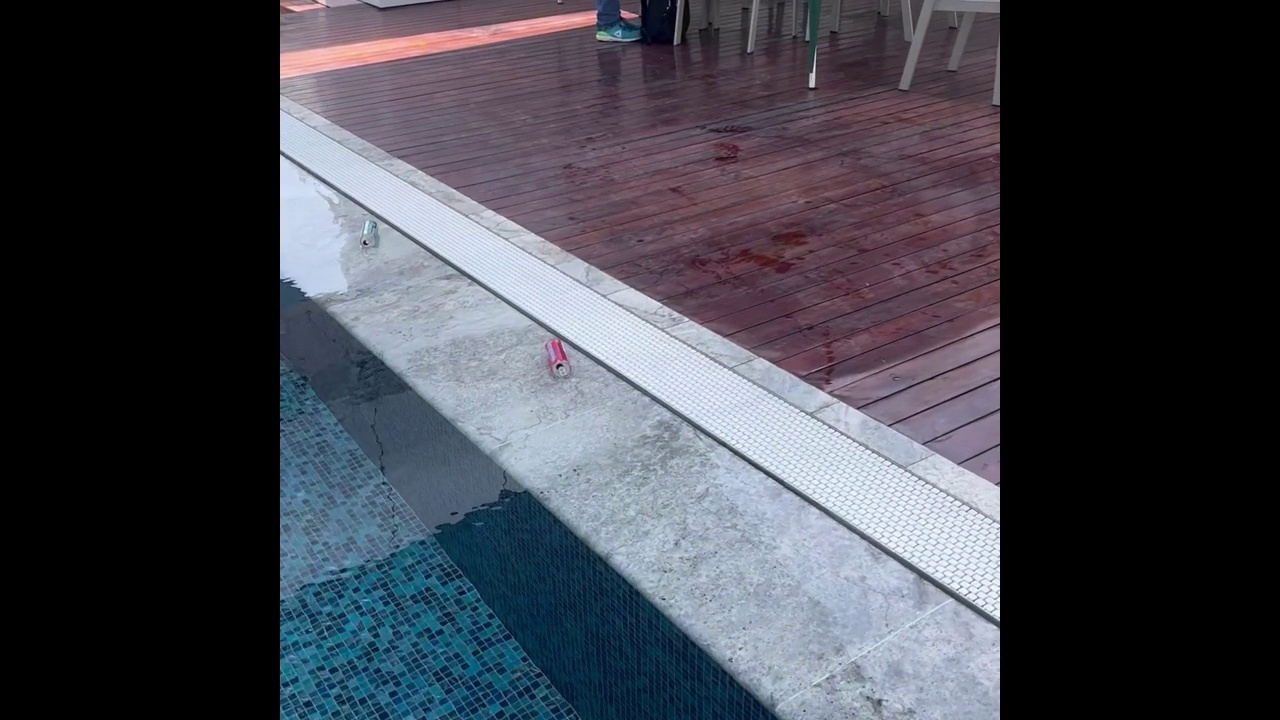debris: (540, 333, 576, 384), (355, 217, 378, 251)
